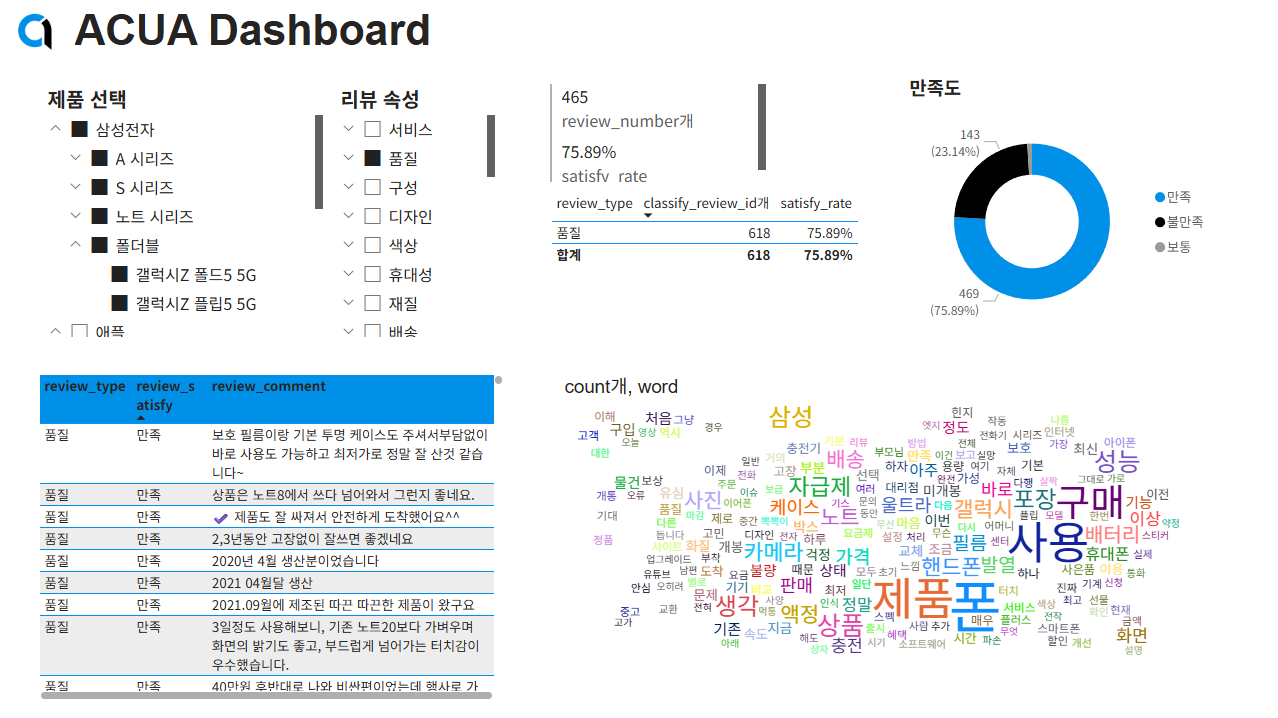

Layout of this report page (visuals, bound fields, positions):
{"tool":"powerbi","page":{"name":"1 페이지","canvas":[1280,720],"ordinal":0},"visuals":[{"type":"slicer","fields":{"Values":["models.브랜드","models.시리즈","models.제품명(용량x)"]},"box":[35.6,81.1,293.3,263.3],"z":0},{"type":"slicer","fields":{"Values":["gpt_result.review_type","gpt_result.classify_review_id"]},"box":[328.7,81.3,172.5,263.2],"z":1000},{"type":"WordCloud1447959067750","fields":{"Category":["wordset.word"],"Values":["CountNonNull(wordset.count)"]},"box":[560.8,372.6,719,334.1],"z":2000},{"type":"donutChart","title":"만족도","fields":{"Category":["gpt_result.review_satisfy"],"Y":["CountNonNull(gpt_result.classify_review_id)"]},"box":[906.3,74.9,312.9,276.5],"z":3000},{"type":"tableEx","fields":{"Values":["gpt_result.review_type","gpt_result.review_satisfy","gpt_result.review_comment"]},"box":[35.5,372.4,473.5,334.3],"z":4000},{"type":"image","box":[0,0,70.9,65.1],"z":5000},{"type":"textbox","box":[70.7,2.9,386.4,62.1],"z":6000},{"type":"multiRowCard","fields":{"Values":["gpt_result.review_number","gpt_result.satisfy_rate"]},"box":[546.2,80.7,212.8,108.2],"z":7000},{"type":"tableEx","fields":{"Values":["gpt_result.review_type","gpt_result.classify_review_id","gpt_result.satisfy_rate"]},"box":[546.6,188.9,296.7,155.6],"z":8000}]}

Visuals, with their boxes in screenshot pixels (x1, y1, x2, y2), scaled from the page's 1280x720 canvas onto the 1278x718 screenshot:
slicer - models.브랜드 x models.시리즈: x1=36 y1=81 x2=328 y2=343
slicer - gpt_result.review_type x gpt_result.classify_review_id: x1=328 y1=81 x2=500 y2=344
WordCloud1447959067750 - wordset.word x CountNonNull(wordset.count): x1=560 y1=372 x2=1277 y2=705
"만족도" donutChart: x1=905 y1=75 x2=1217 y2=350
tableEx - gpt_result.review_type x gpt_result.review_satisfy: x1=35 y1=371 x2=508 y2=705
image: x1=0 y1=0 x2=71 y2=65
textbox: x1=71 y1=3 x2=456 y2=65
multiRowCard - gpt_result.review_number x gpt_result.satisfy_rate: x1=545 y1=80 x2=758 y2=188
tableEx - gpt_result.review_type x gpt_result.classify_review_id: x1=546 y1=188 x2=842 y2=344
